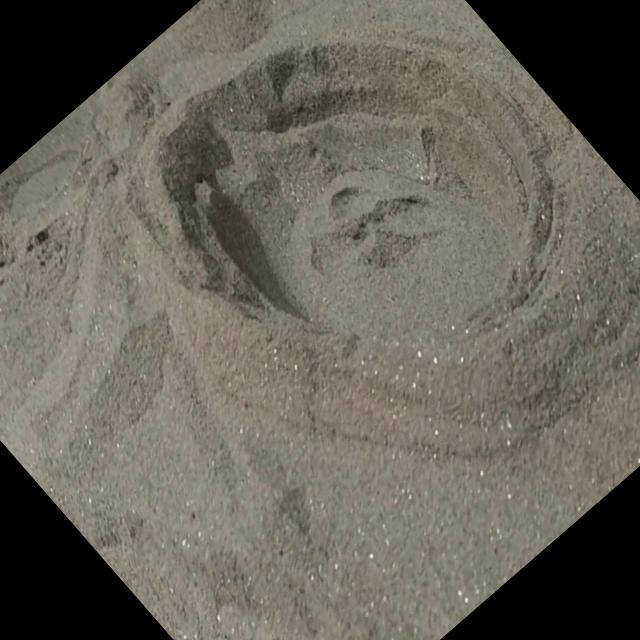C20: (140, 68, 542, 347)
